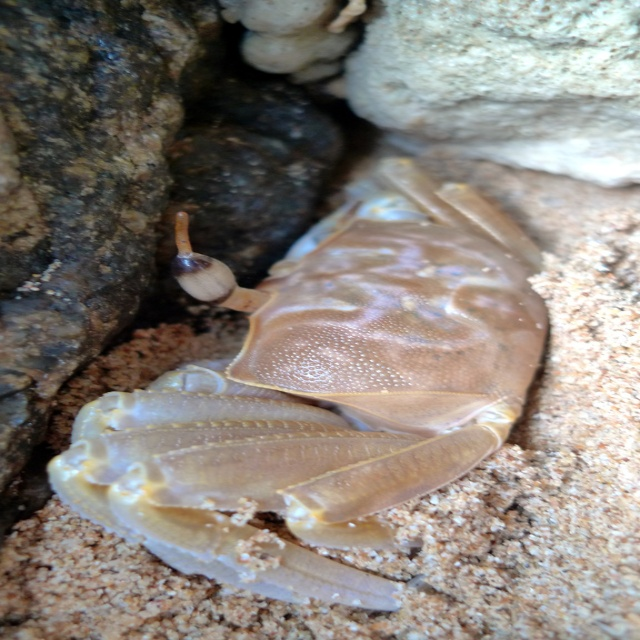Crab: (45, 147, 580, 613)
